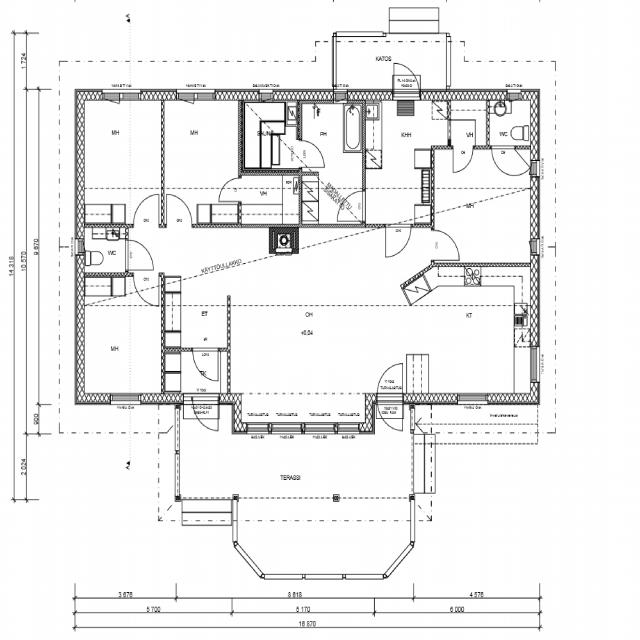door: (392, 57, 420, 100), (376, 392, 402, 434), (376, 360, 402, 402), (192, 395, 218, 434), (192, 348, 218, 383), (125, 240, 154, 271), (166, 194, 192, 228), (385, 224, 411, 258), (133, 272, 159, 306), (337, 191, 366, 221), (133, 193, 158, 227), (431, 230, 459, 260), (299, 140, 327, 168), (491, 146, 513, 177), (216, 178, 242, 204), (453, 146, 475, 176)
